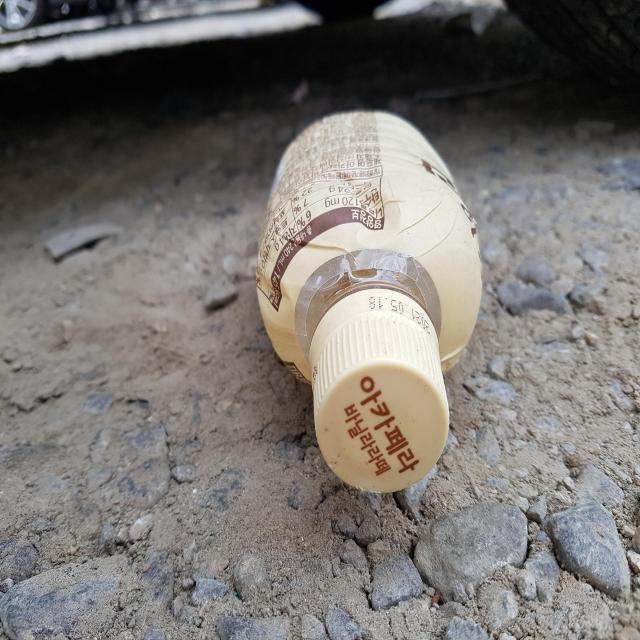plastic: (256, 110, 483, 493)
